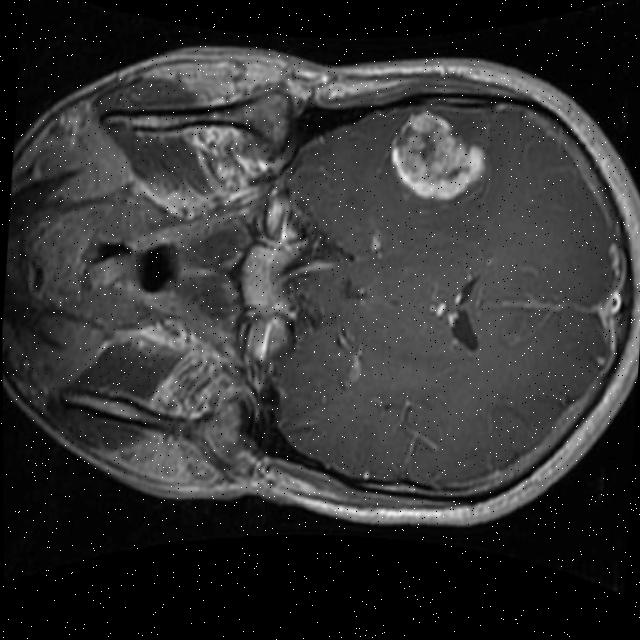Glioma: (385, 103, 492, 207)
Pituitary: (236, 240, 283, 311)
